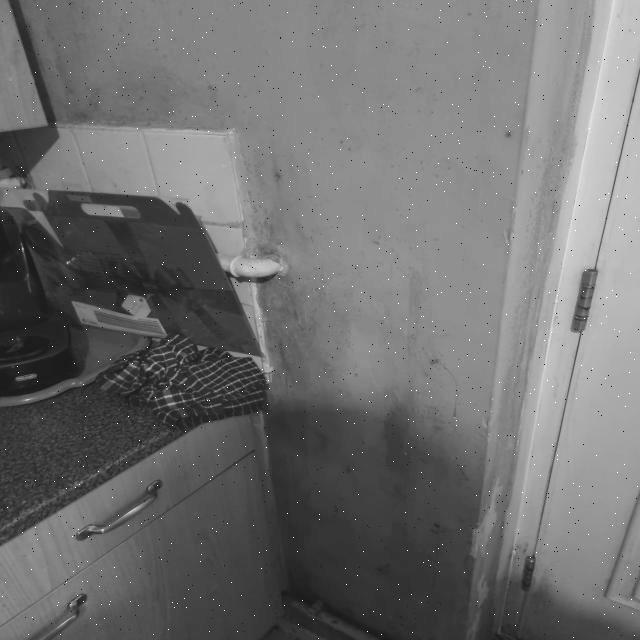stain marks: (362, 254, 478, 600), (22, 0, 236, 131), (296, 2, 516, 118), (256, 278, 364, 464), (347, 120, 513, 238), (276, 468, 358, 618), (242, 126, 320, 256), (354, 603, 471, 640)
